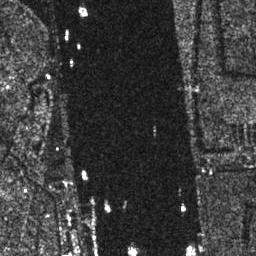ship: (102, 200, 112, 214), (63, 27, 71, 43), (80, 168, 89, 182), (67, 57, 76, 69), (45, 73, 53, 81), (75, 43, 83, 51)
